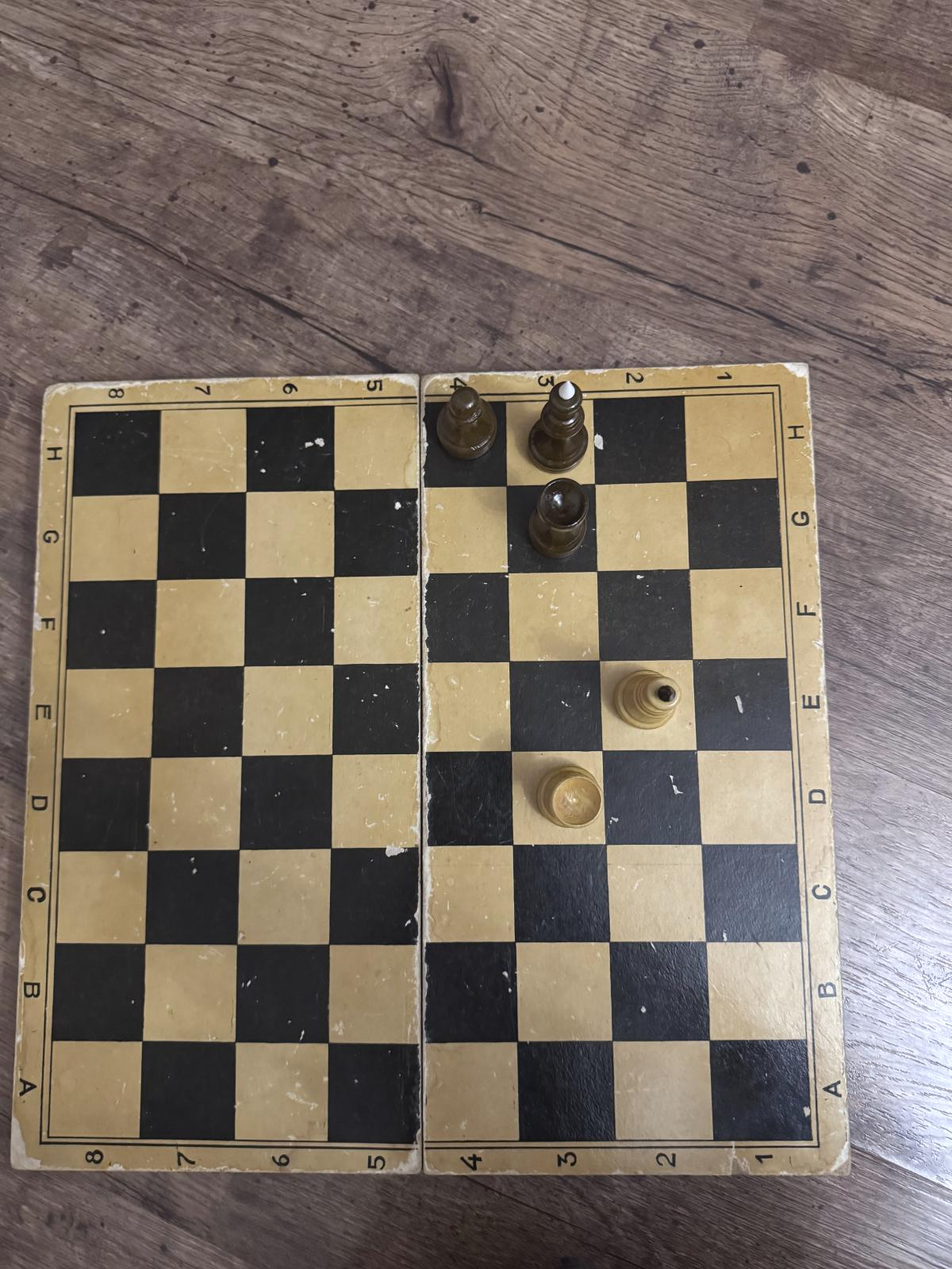Chess-Board: (48, 393, 813, 1140)
